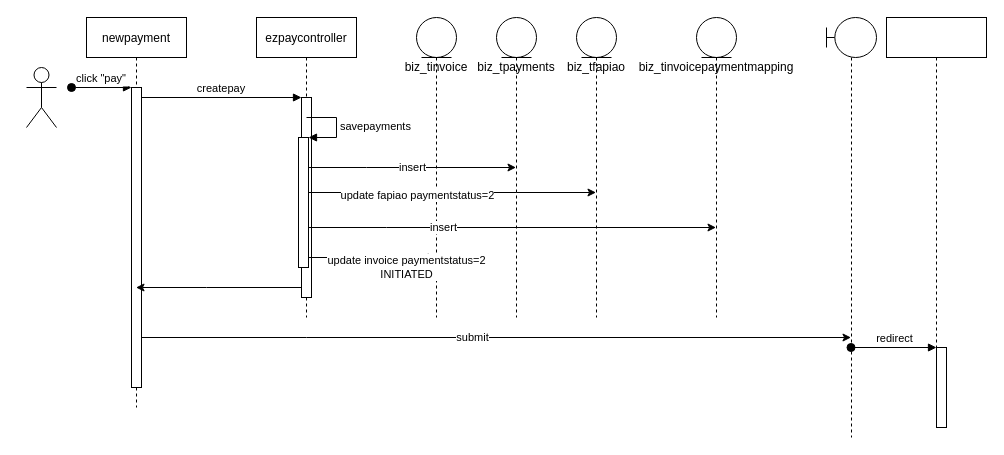
Some shapes in this 1004 by 455 pixel diagram are drawn without their labels. The box of each missing label's shape, as (x1, y1, x2, y2) in pixels:
chargecenter: (886, 16, 986, 428)
customer: (26, 66, 56, 128)
ezpay: (826, 16, 876, 438)
